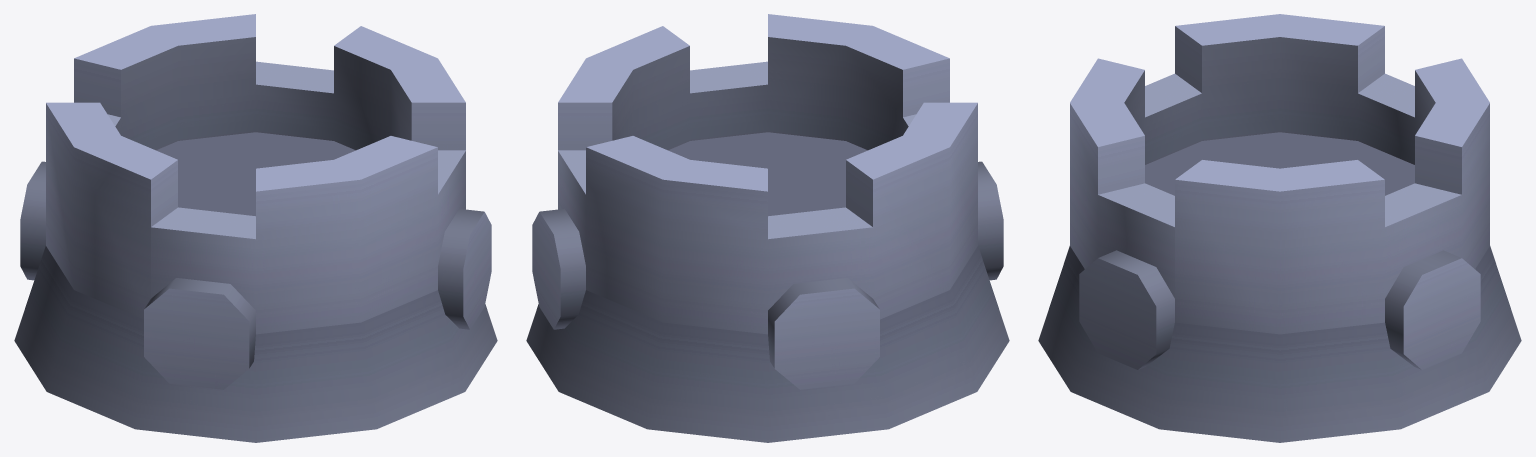
File: tower-round-top-a.glb
The picture shows the model from 3 angles, left to right: view 1: azimuth 30°, elevation 25°; view 2: azimuth 150°, elevation 25°; view 3: azimuth 270°, elevation 25°; orthographic projection.
Parts seen in each view (by area): view 1: tower-round-top-a; view 2: tower-round-top-a; view 3: tower-round-top-a.
Boxes of the visible parts, left/top/right/bottom form: tower-round-top-a: left=14, top=14, right=497, bottom=442; tower-round-top-a: left=526, top=14, right=1009, bottom=442; tower-round-top-a: left=1038, top=14, right=1521, bottom=442.
Size of the model in its own units: 0.92 by 0.5 by 0.92.
Materials: 1 (1 with a texture image).
